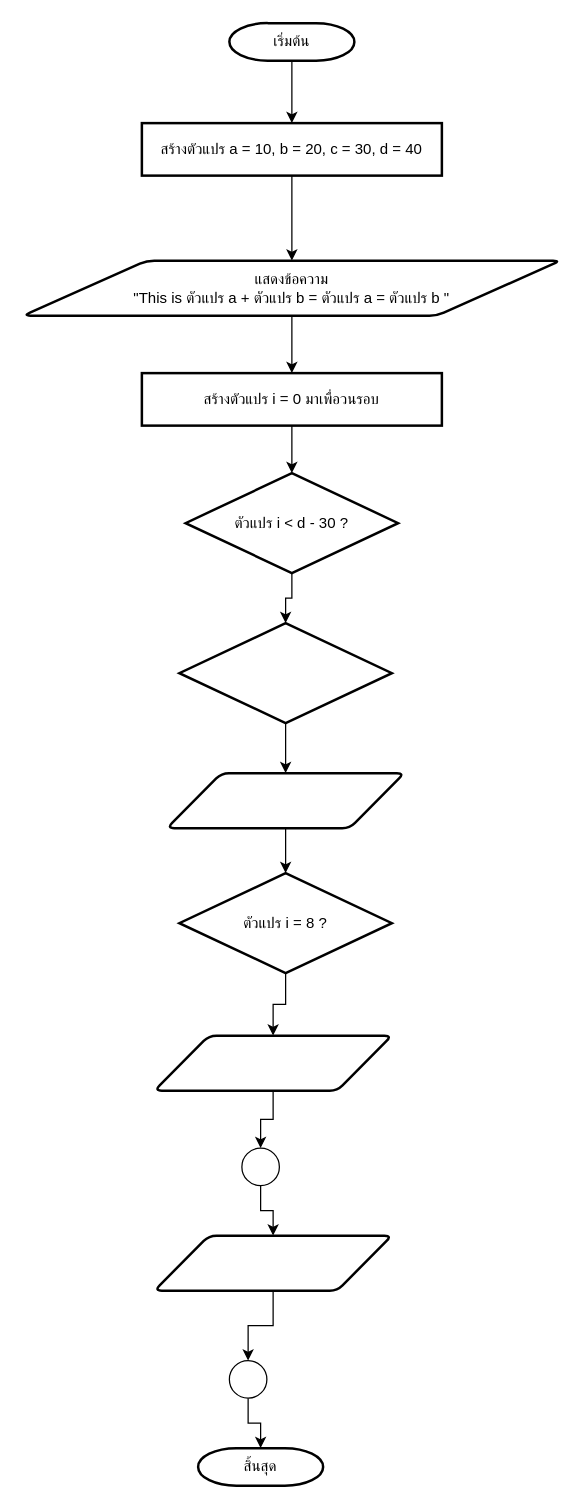
This 583x1508 diagram has some shape labels left out. Here are the shapes that lost their labels. From the top down, the centre of each, then its label:
point 285,672: ตัวแปร i < 30 ?
point 285,800: แสดงข้อความ "Here "
point 272,1062: แสดงข้อความ "This is 8. "
point 272,1262: แสดงข้อความ "ok"
